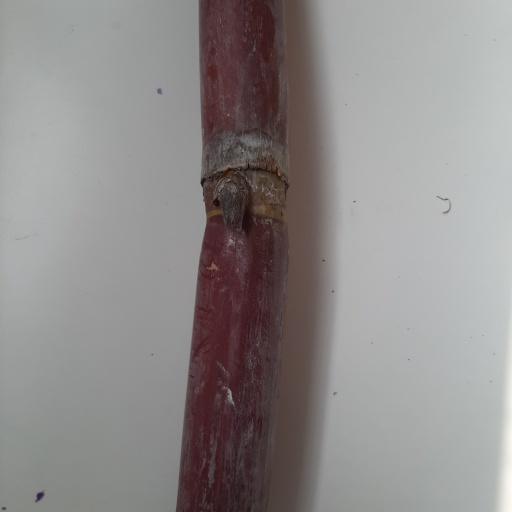Bud: (215, 174, 250, 235)
